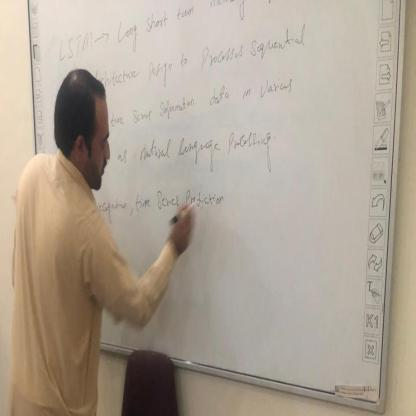Handwritten text: (85, 17, 322, 103), (102, 68, 309, 136), (111, 117, 284, 181), (95, 184, 231, 232)
Lecturer: (4, 65, 191, 416)
